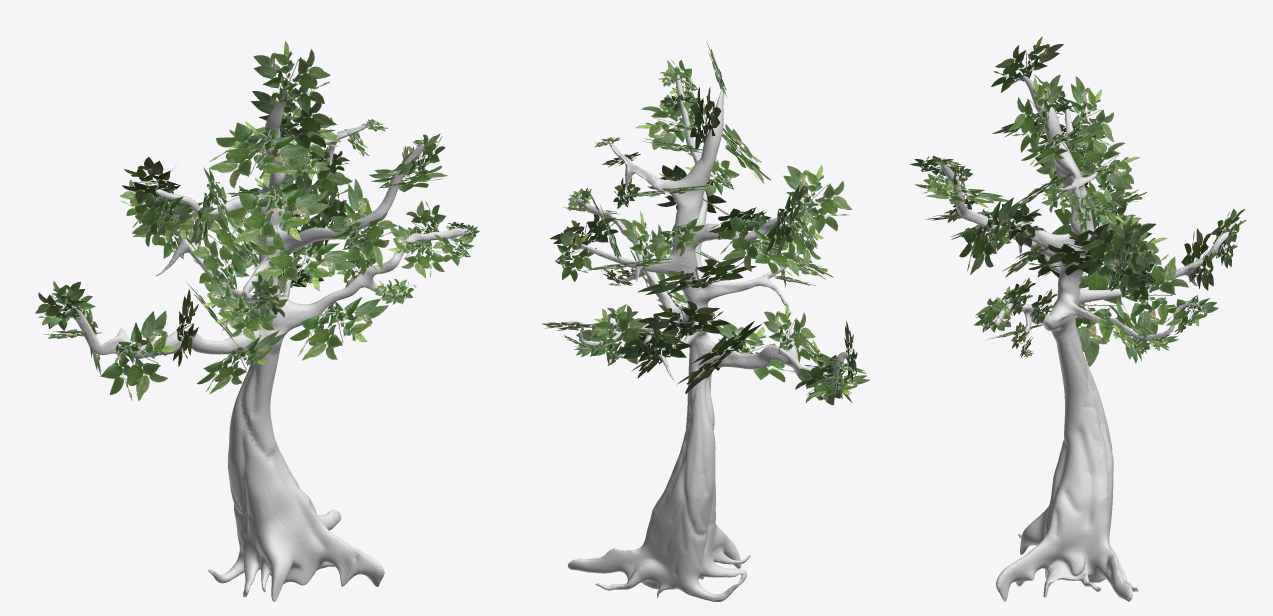
Rendered from TreeCopy.fbx.
3 renders of one model, left to right at view 1: azimuth 30°, elevation 25°; view 2: azimuth 150°, elevation 25°; view 3: azimuth 270°, elevation 25°, orthographic. The views are drawn at different scales.
Parts seen in each view (by area): view 1: Plane.051, Cube; view 2: Plane.051, Cube; view 3: Plane.051, Cube.
Boxes of the visible parts, x1=… form: Plane.051: x1=35, y1=41, x2=479, y2=400; Cube: x1=64, y1=93, x2=476, y2=601; Plane.051: x1=541, y1=42, x2=869, y2=405; Cube: x1=564, y1=74, x2=852, y2=601; Plane.051: x1=910, y1=36, x2=1246, y2=366; Cube: x1=939, y1=75, x2=1232, y2=601.
Bounding box in the file's own units: 1469 × 2022 × 1176.
